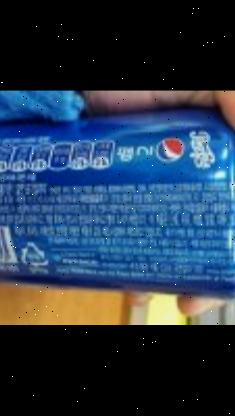Can: (0, 107, 235, 299)
